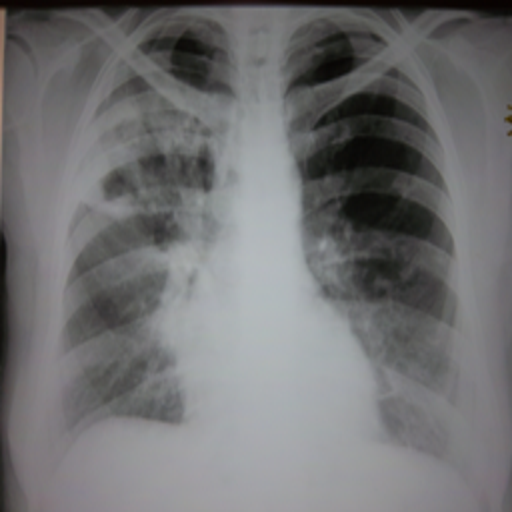TB: (83, 65, 213, 266)
